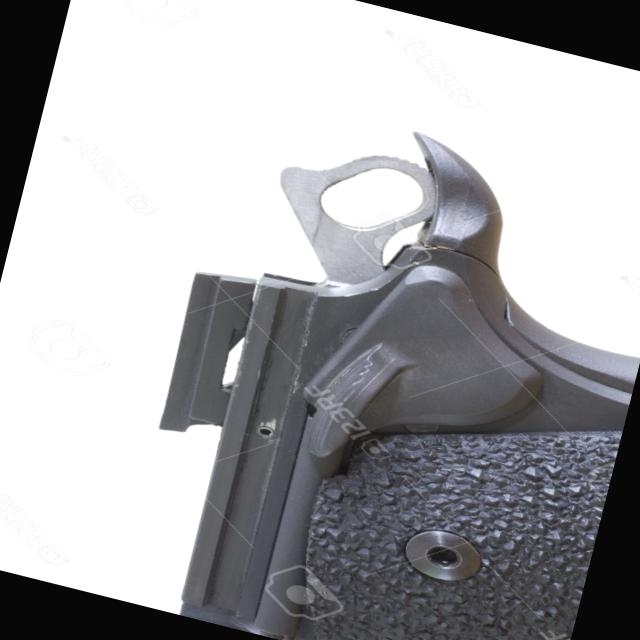handgun: (73, 60, 639, 639)
